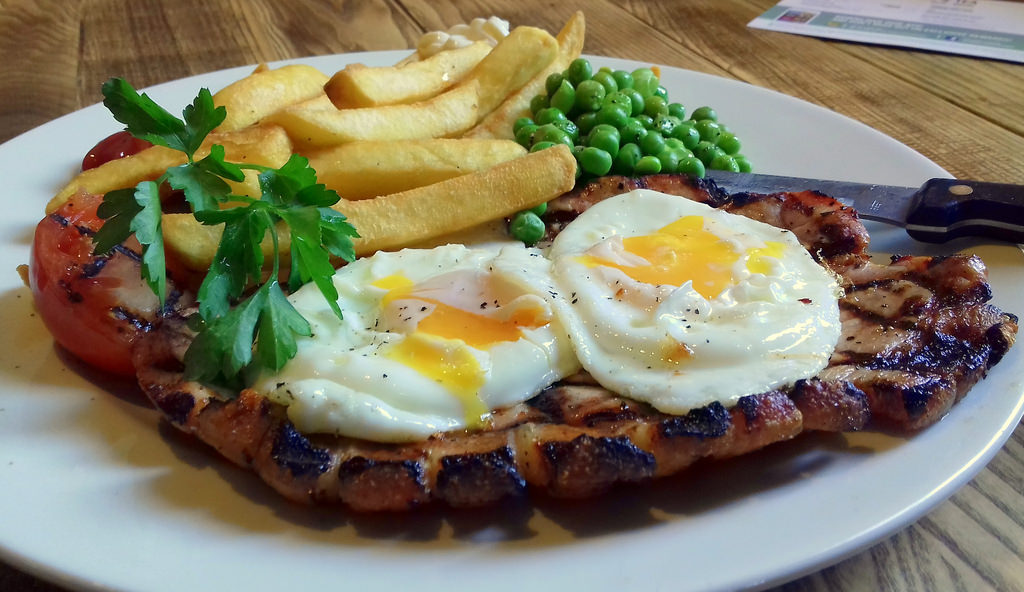boiled peas: (583, 75, 701, 165)
fried egg: (591, 211, 773, 424), (327, 278, 552, 401)
